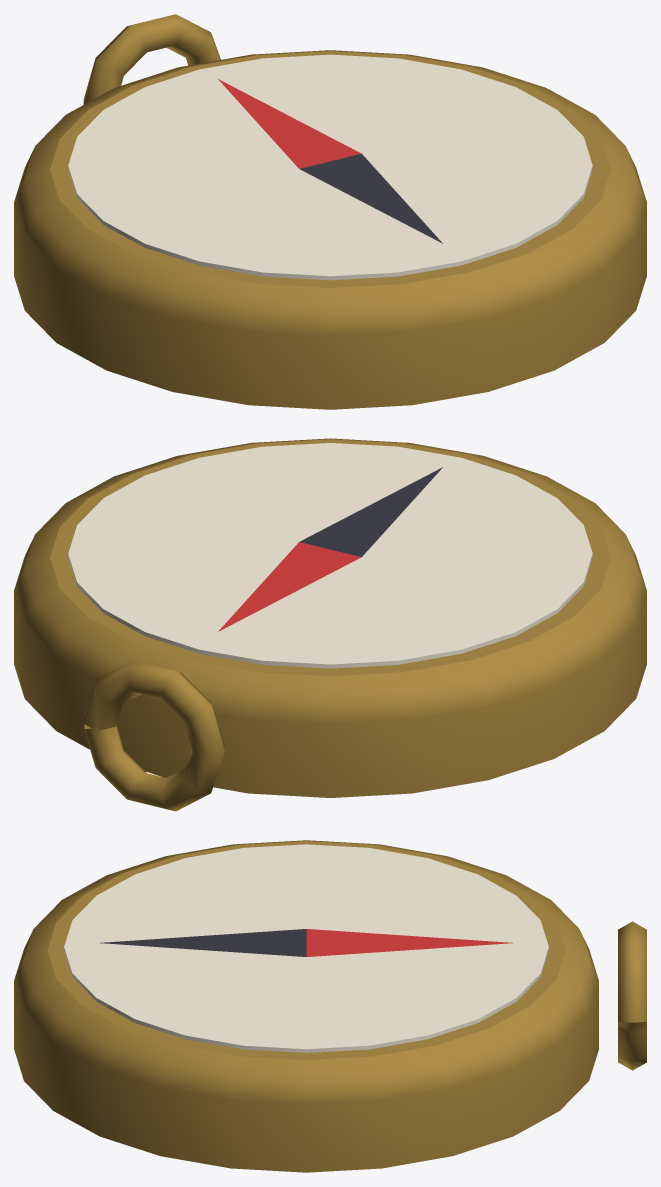
Rendered from item_ic_compass.glb.
3 views of the same model, one above another, from view 1: azimuth 30°, elevation 25°; view 2: azimuth 150°, elevation 25°; view 3: azimuth 270°, elevation 25° (orthographic). The views are drawn at different scales.
Parts seen in each view (by area): view 1: item_ic_compass_gloss, item_ic_compass_main; view 2: item_ic_compass_gloss, item_ic_compass_main; view 3: item_ic_compass_gloss, item_ic_compass_main.
Boxes of the visible parts, x1,y1,x2,y2 form: item_ic_compass_gloss: (14, 14, 646, 409); item_ic_compass_main: (68, 54, 592, 280); item_ic_compass_gloss: (14, 438, 646, 811); item_ic_compass_main: (68, 443, 592, 668); item_ic_compass_gloss: (14, 840, 646, 1172); item_ic_compass_main: (64, 844, 548, 1052).
Size of the model in its own units: 0.14 by 0.0342 by 0.1515.
